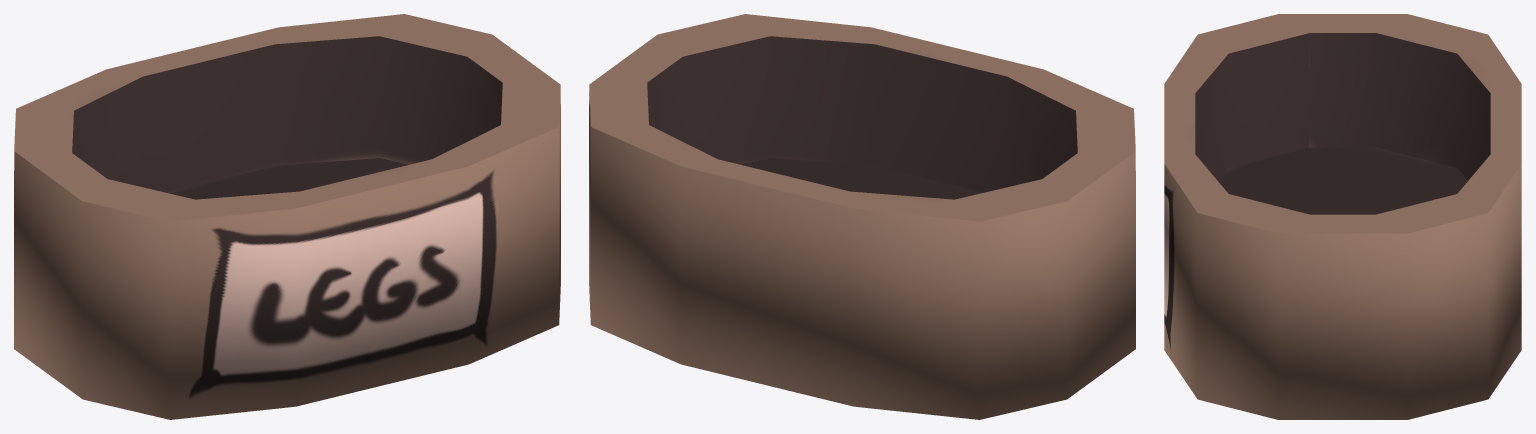
The model's file is BasketLegs.fbx.
The picture shows the model from 3 angles, left to right: view 1: azimuth 30°, elevation 25°; view 2: azimuth 150°, elevation 25°; view 3: azimuth 270°, elevation 25°; orthographic projection. The views are drawn at different scales.
Parts seen in each view (by area): view 1: BasketLegs; view 2: BasketLegs; view 3: BasketLegs.
Part boxes in pixels (x1,y1,x2,y2): BasketLegs: (14, 14, 560, 419); BasketLegs: (589, 14, 1135, 419); BasketLegs: (1164, 14, 1521, 419).
Bounding box in the file's own units: 291 × 115 × 200.
